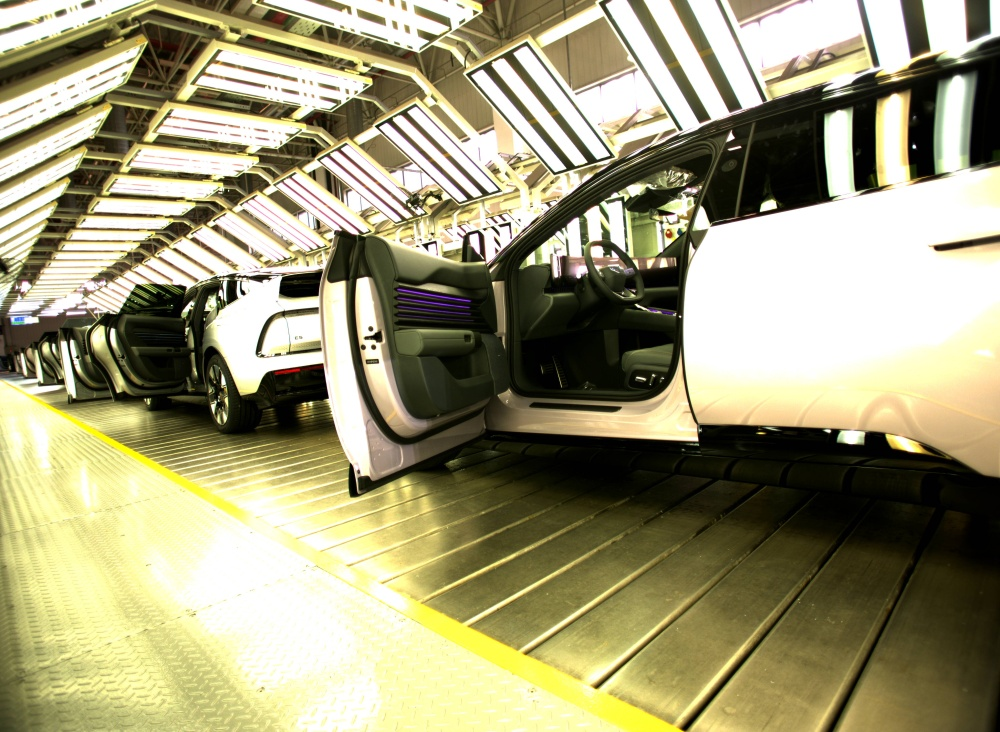armrest_color: (392, 327, 478, 357)
panel_color: (390, 276, 477, 331)
